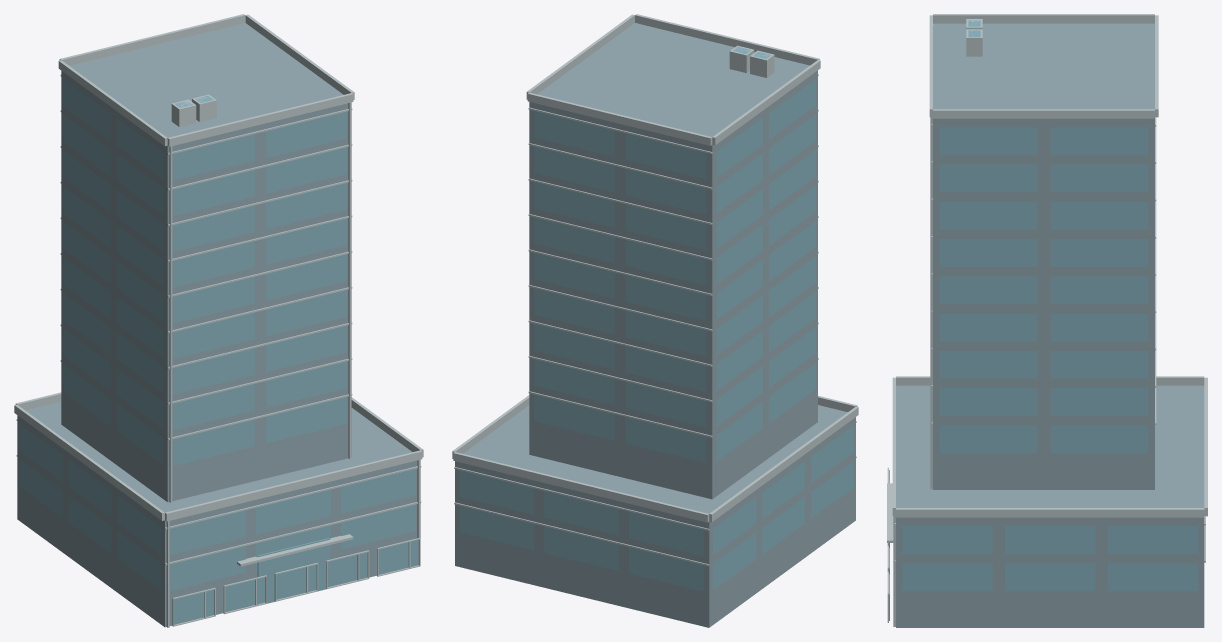
File: commercial_3x3_b.glb
3 renders of one model, left to right at view 1: azimuth 30°, elevation 25°; view 2: azimuth 150°, elevation 25°; view 3: azimuth 270°, elevation 25°, orthographic. The views are drawn at different scales.
Parts seen in each view (by area): view 1: commercial_3x3_b_0; view 2: commercial_3x3_b_0; view 3: commercial_3x3_b_0.
Boxes of the visible parts, x1,y1,x2,y2 form: commercial_3x3_b_0: (14, 14, 423, 627); commercial_3x3_b_0: (452, 14, 858, 627); commercial_3x3_b_0: (887, 14, 1207, 627).
Size of the model in its own units: 23 by 40.5 by 23.4.
